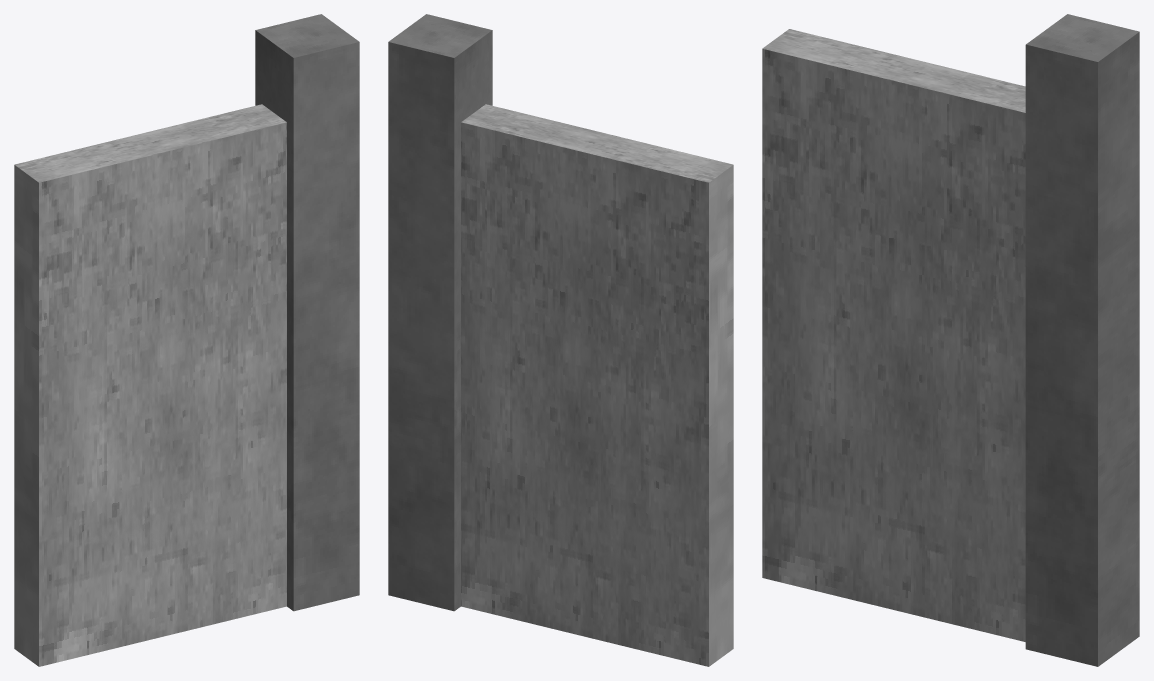
Rendered from walllargeupd.gltf.
3 views of the same model, side by side, from view 1: azimuth 30°, elevation 25°; view 2: azimuth 150°, elevation 25°; view 3: azimuth 330°, elevation 25° (orthographic). The views are drawn at different scales.
Parts seen in each view (by area): view 1: shortwall, wallTower; view 2: shortwall, wallTower; view 3: shortwall, wallTower.
Part boxes in pixels (bbox=[...]): shortwall: bbox=[14, 104, 286, 666]; wallTower: bbox=[255, 14, 359, 611]; shortwall: bbox=[461, 104, 733, 666]; wallTower: bbox=[388, 14, 492, 611]; shortwall: bbox=[762, 29, 1025, 641]; wallTower: bbox=[1025, 14, 1139, 666].
Bounding box in the file's own units: 9.5 × 16 × 2.
2 materials, 2 textured.
